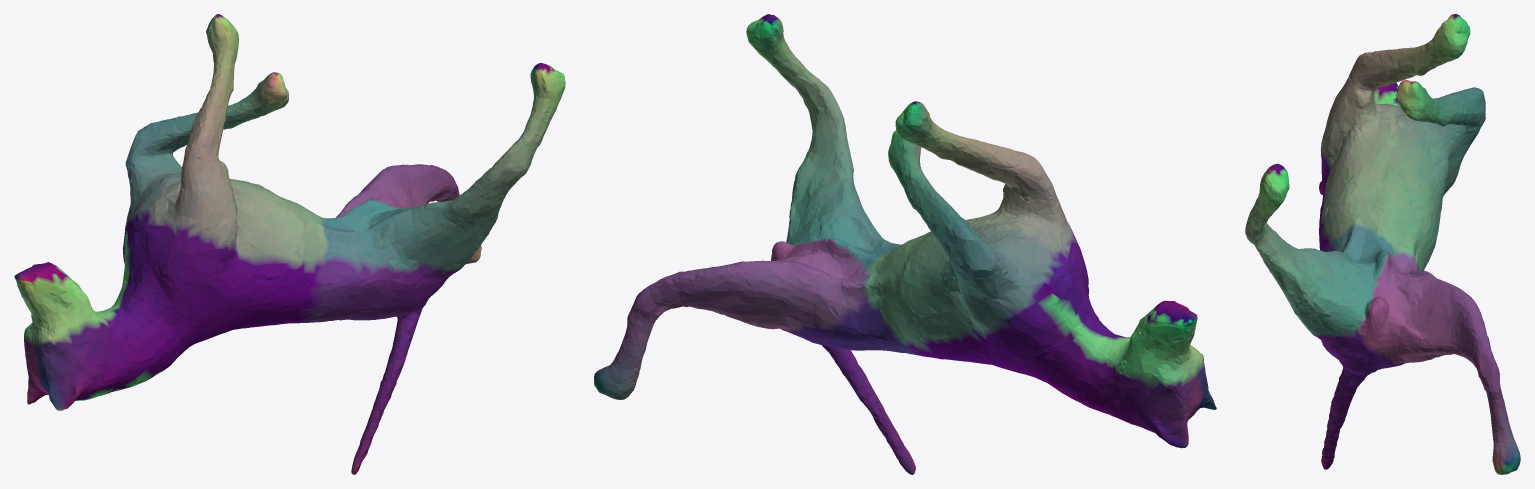
The model's file is dog2-13.off.obj.
3 views of the same model, side by side, from view 1: azimuth 30°, elevation 25°; view 2: azimuth 150°, elevation 25°; view 3: azimuth 270°, elevation 25° (orthographic). The views are drawn at different scales.
Bounding box in the file's own units: 1.5 × 1.17 × 0.6926.
